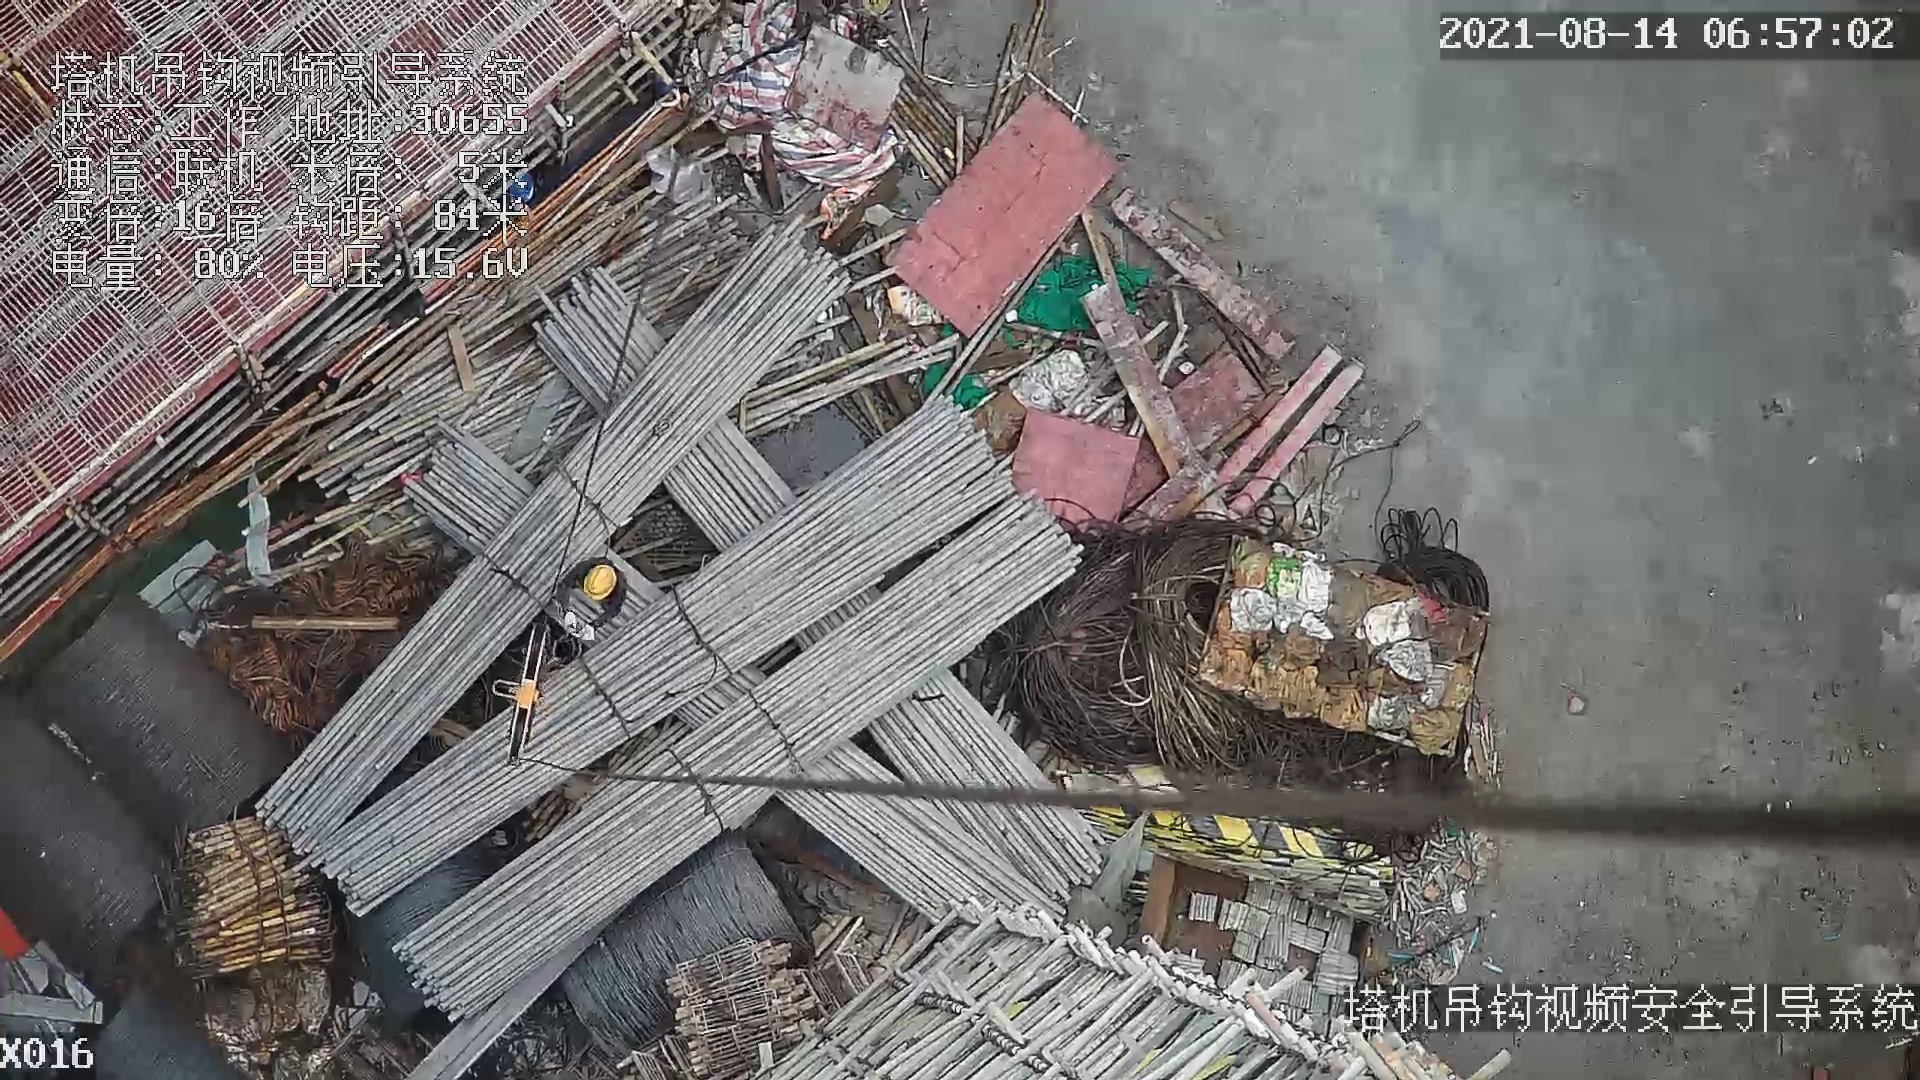helmet: (583, 564, 617, 600)
hook: (500, 610, 553, 773)
person: (549, 555, 631, 641)
rebar: (255, 222, 854, 856), (304, 392, 1020, 920), (390, 483, 1085, 1022), (771, 738, 1069, 930), (867, 672, 1104, 895)
wood: (178, 816, 335, 979)
